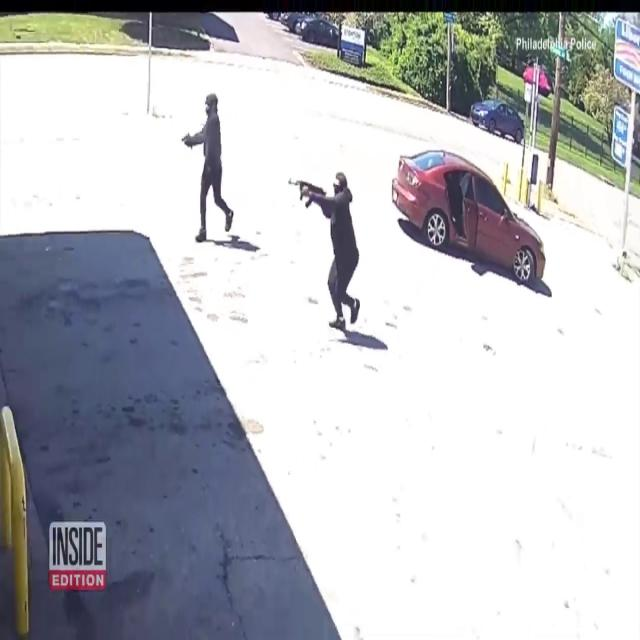penembakan: (287, 162, 371, 338), (180, 81, 242, 252)
